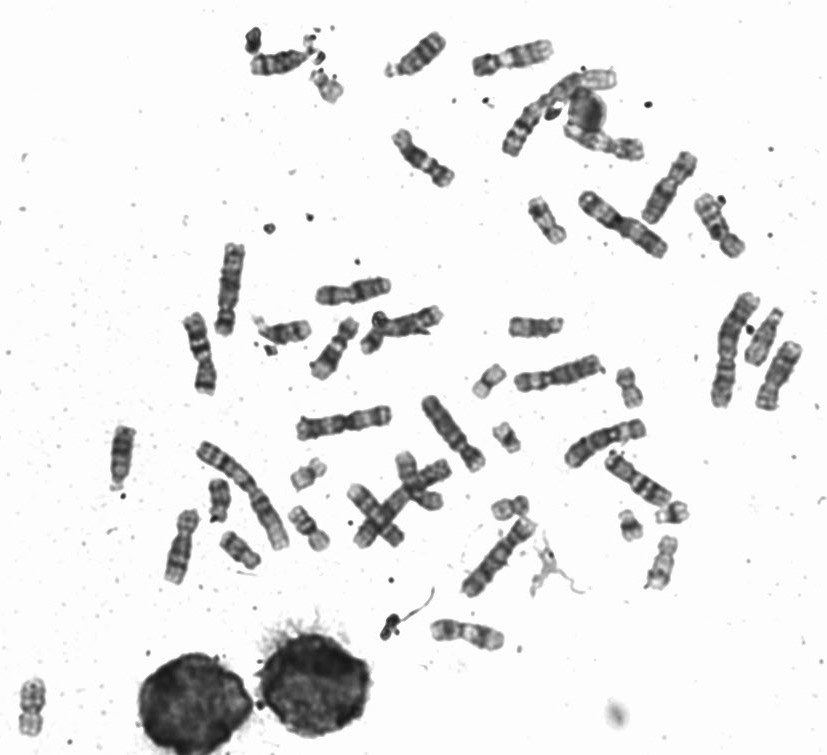chromosomes: (491, 61, 627, 167), (189, 433, 294, 556), (350, 456, 458, 554), (702, 287, 767, 415), (574, 183, 670, 266), (457, 515, 541, 605), (417, 386, 490, 478), (380, 118, 464, 195), (559, 412, 655, 477), (292, 395, 397, 448), (464, 31, 562, 87), (640, 147, 704, 229), (509, 348, 606, 402), (600, 445, 674, 514), (751, 334, 811, 419), (359, 303, 447, 359), (344, 480, 411, 553), (558, 118, 653, 169), (209, 239, 254, 346), (690, 187, 754, 261), (174, 306, 222, 402), (378, 25, 449, 89), (305, 312, 364, 389), (392, 442, 451, 517), (156, 504, 205, 593), (421, 618, 515, 660), (740, 299, 791, 371), (241, 37, 315, 86), (8, 671, 53, 749), (313, 271, 402, 310), (102, 419, 146, 496), (282, 499, 335, 557), (523, 190, 571, 254), (250, 309, 320, 352), (639, 533, 688, 594), (218, 525, 268, 580), (504, 306, 575, 344), (284, 451, 333, 495), (614, 361, 650, 419), (307, 63, 350, 110), (488, 488, 538, 526), (472, 357, 512, 402), (202, 477, 235, 529), (614, 505, 651, 551), (652, 495, 698, 531), (490, 421, 528, 456)
